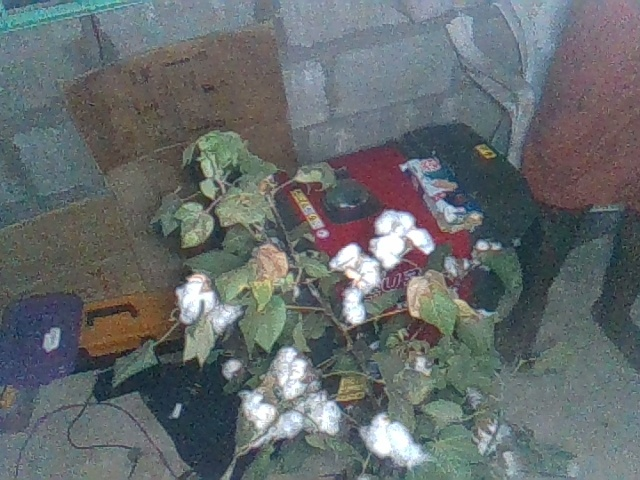cotton: (324, 240, 384, 328), (173, 269, 245, 336), (357, 412, 433, 471), (367, 209, 437, 268), (234, 388, 300, 444), (291, 388, 344, 440), (269, 345, 317, 402), (470, 234, 506, 273), (217, 356, 246, 383)
